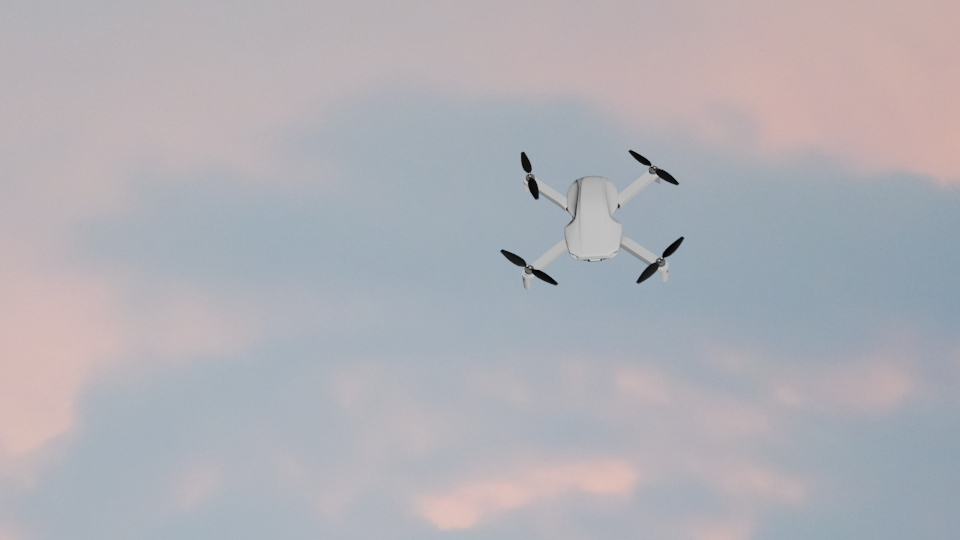drone: (494, 140, 690, 289)
